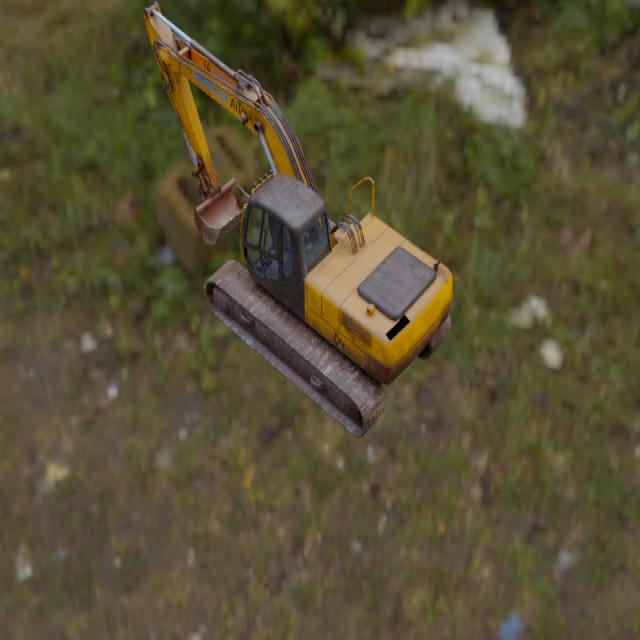excavator: (143, 0, 453, 437)
